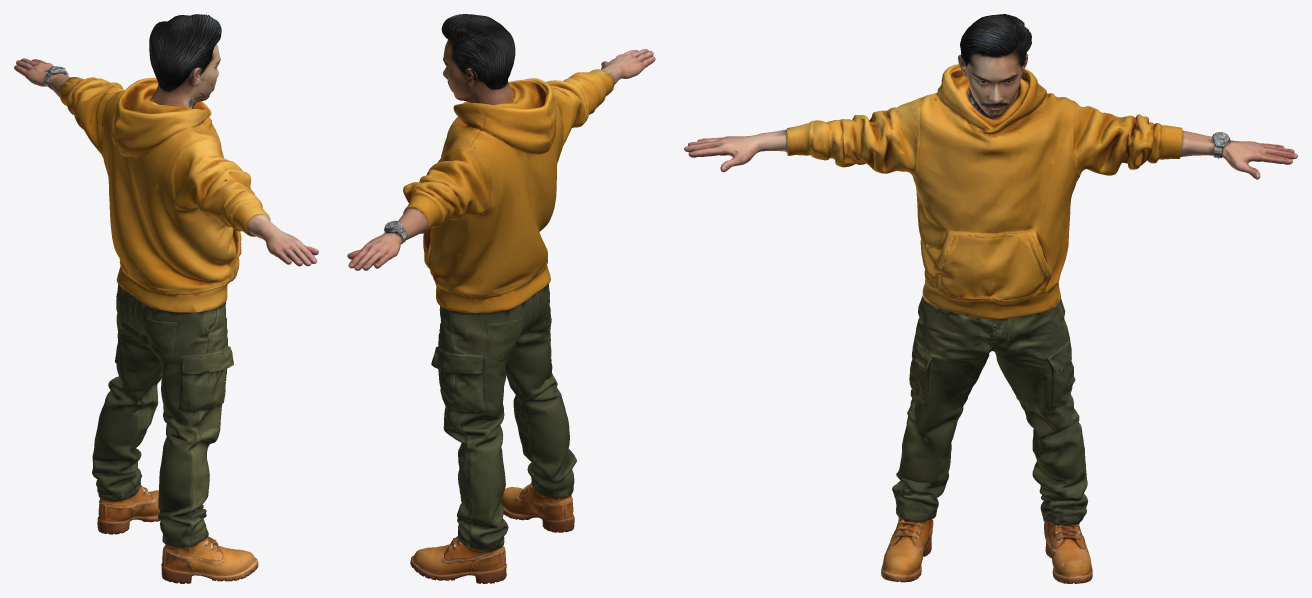
File: master.glb
3 renders of one model, left to right at view 1: azimuth 30°, elevation 25°; view 2: azimuth 150°, elevation 25°; view 3: azimuth 270°, elevation 25°, orthographic. The views are drawn at different scales.
Visible parts, largest first — view 1: w_tp_gun_hoodie; view 2: w_tp_gun_hoodie; view 3: w_tp_gun_hoodie.
Part boxes in pixels (left/top/right/bottom): w_tp_gun_hoodie: left=14, top=14, right=318, bottom=583; w_tp_gun_hoodie: left=347, top=14, right=655, bottom=583; w_tp_gun_hoodie: left=684, top=14, right=1297, bottom=583.
Size of the model in its own units: 0.4053 by 1.8 by 1.8.
1 material, 1 textured.
